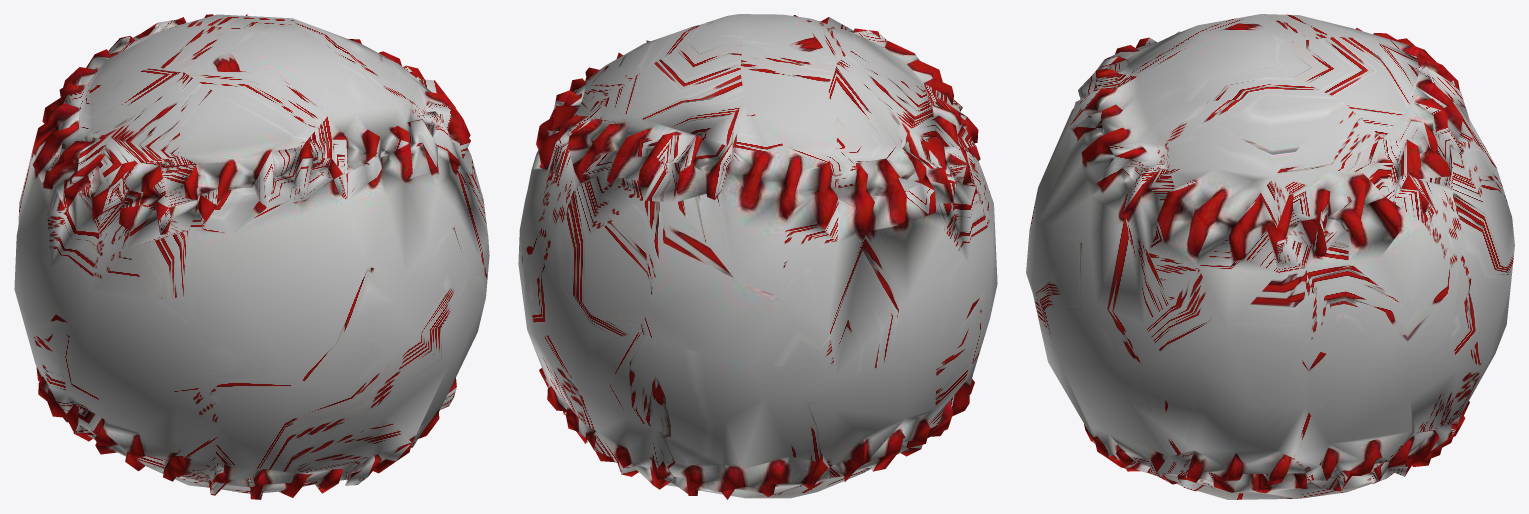
Rendered from ball_baseball.glb.
3 renders of one model, left to right at view 1: azimuth 30°, elevation 25°; view 2: azimuth 150°, elevation 25°; view 3: azimuth 270°, elevation 25°, orthographic. The views are drawn at different scales.
Visible parts, largest first — view 1: tripo_node_b9af9573-ffd4-47d4-b52e-384e1964bf92; view 2: tripo_node_b9af9573-ffd4-47d4-b52e-384e1964bf92; view 3: tripo_node_b9af9573-ffd4-47d4-b52e-384e1964bf92.
Part boxes in pixels (x1=…): tripo_node_b9af9573-ffd4-47d4-b52e-384e1964bf92: x1=14, y1=14, x2=489, y2=499; tripo_node_b9af9573-ffd4-47d4-b52e-384e1964bf92: x1=518, y1=14, x2=997, y2=499; tripo_node_b9af9573-ffd4-47d4-b52e-384e1964bf92: x1=1026, y1=14, x2=1514, y2=499.
Bounding box in the file's own units: 0.9804 × 0.9972 × 0.9971.
1 material, 1 textured.
